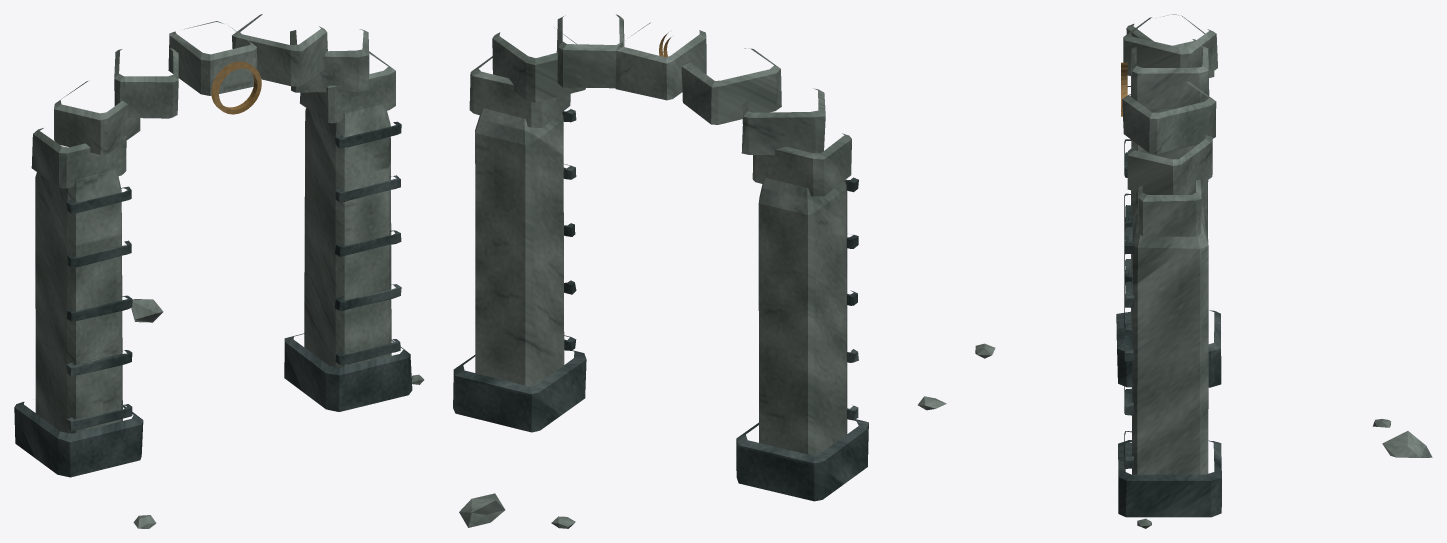
The model's file is 0322_archway_22.glb.
3 views of the same model, side by side, from view 1: azimuth 30°, elevation 25°; view 2: azimuth 150°, elevation 25°; view 3: azimuth 270°, elevation 25° (orthographic). The views are drawn at different scales.
Visible parts, largest first — view 1: stone, stone_dark, brass; view 2: stone, stone_dark; view 3: stone, stone_dark.
Boxes of the visible parts, <box> form: stone: <box>31,14,424,528</box>; stone_dark: <box>14,121,412,477</box>; brass: <box>211,61,261,114</box>; stone: <box>459,14,946,528</box>; stone_dark: <box>453,109,868,501</box>; stone: <box>975,14,1432,528</box>; stone_dark: <box>1116,86,1221,517</box>.
Bounding box in the file's own units: 3.47 × 3.42 × 3.73.
3 materials, 3 textured.
